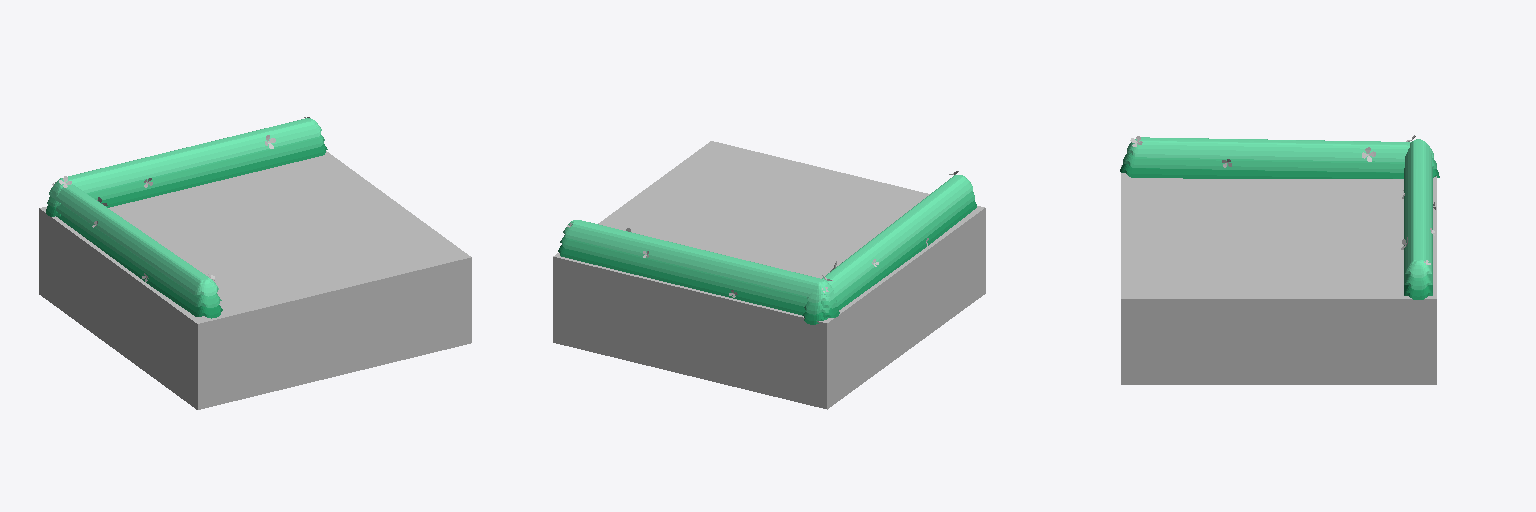
The picture shows the model from 3 angles: view 1: azimuth 30°, elevation 25°; view 2: azimuth 150°, elevation 25°; view 3: azimuth 270°, elevation 25°; orthographic projection.
Visible parts, largest first — view 1: unit.003_Cube.021, Unit.014_Plane.059, flowerbush_Plane.058; view 2: unit.003_Cube.021, Unit.014_Plane.059, flowerbush_Plane.058; view 3: unit.003_Cube.021, flowerbush_Plane.058, Unit.014_Plane.059.
Part boxes in pixels (x1,y1,x2,y2): unit.003_Cube.021: (39, 151, 471, 409); Unit.014_Plane.059: (46, 117, 327, 216); flowerbush_Plane.058: (47, 182, 222, 318); unit.003_Cube.021: (553, 141, 985, 409); Unit.014_Plane.059: (558, 220, 839, 318); flowerbush_Plane.058: (803, 171, 976, 324); unit.003_Cube.021: (1121, 165, 1436, 384); flowerbush_Plane.058: (1120, 136, 1439, 178); Unit.014_Plane.059: (1401, 135, 1435, 299).
Size of the model in its own units: 2.02 by 0.8688 by 2.02.
Materials: 3 (1 with a texture image).